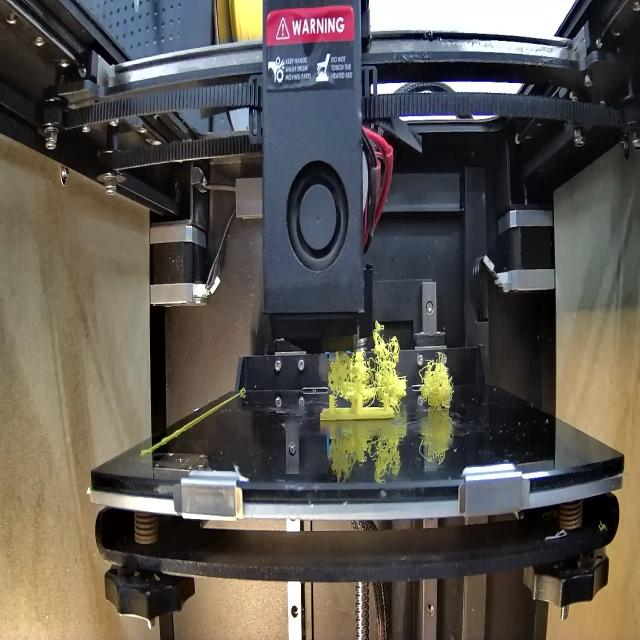spaghetti: (324, 318, 410, 403), (422, 361, 456, 412)
